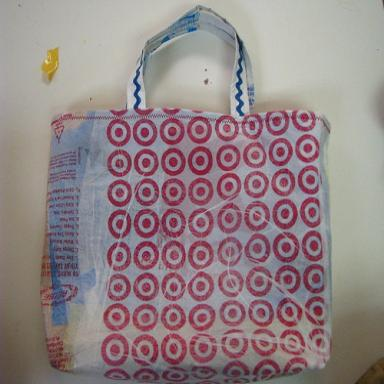plasticbag: (35, 2, 334, 383)
